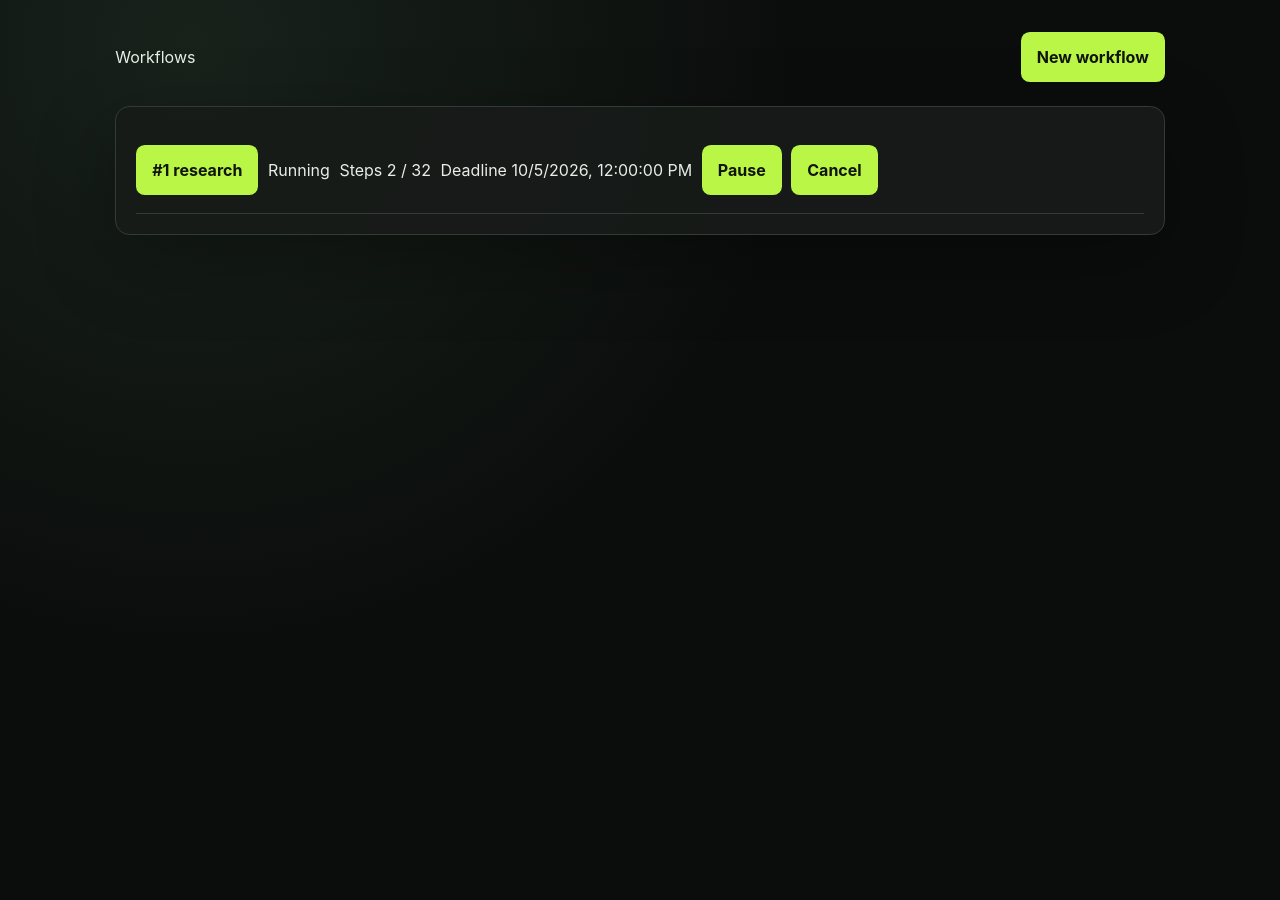
WorkflowsPage › shows private state only after explicit checkpoint inspection
Click the button "#1 research". click: (197, 170)
box: [136,145,258,195]
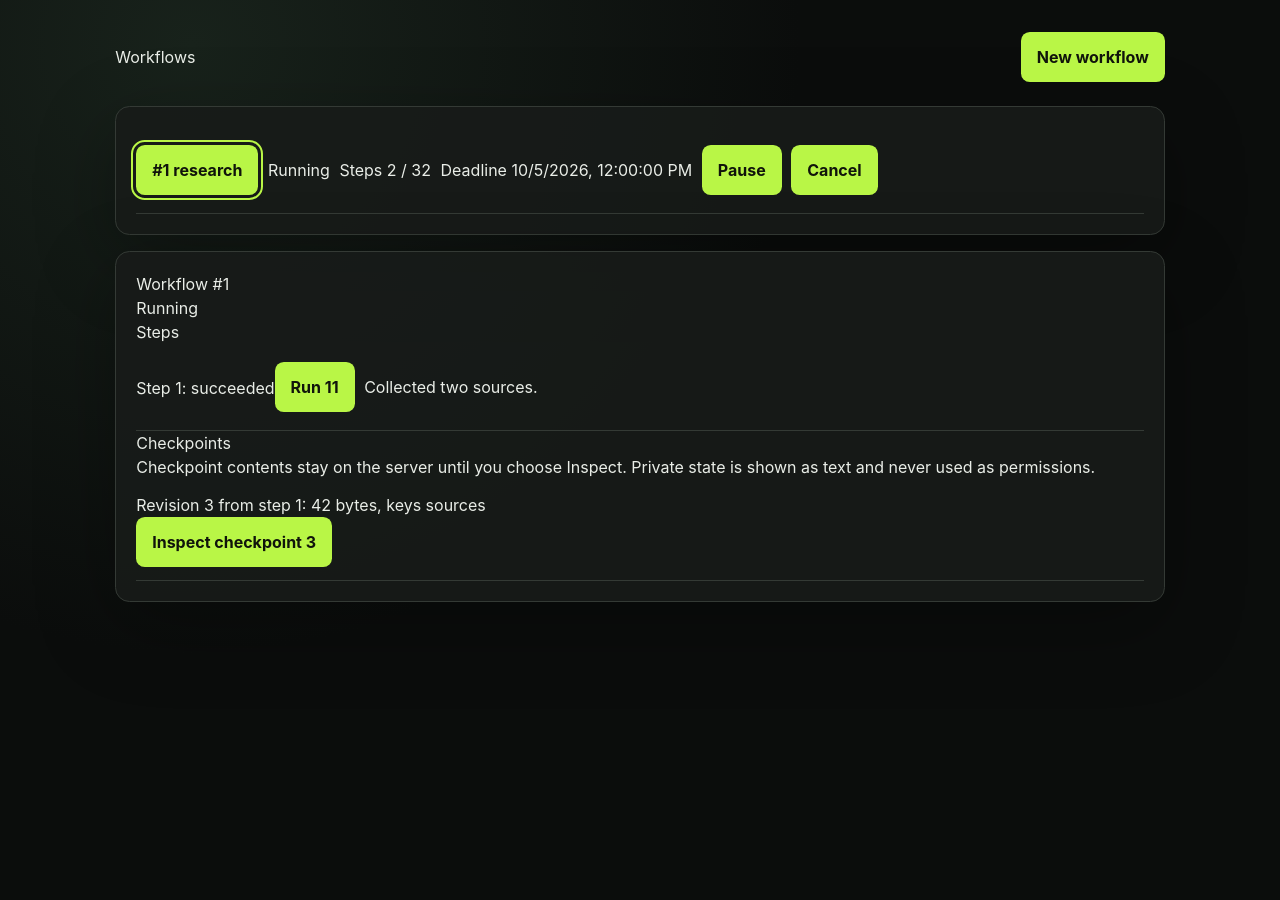
expect the text "Private evidence" is not shown: met
Click the button "Inspect checkpoint 3". click: (234, 542)
box: [136,517,332,566]
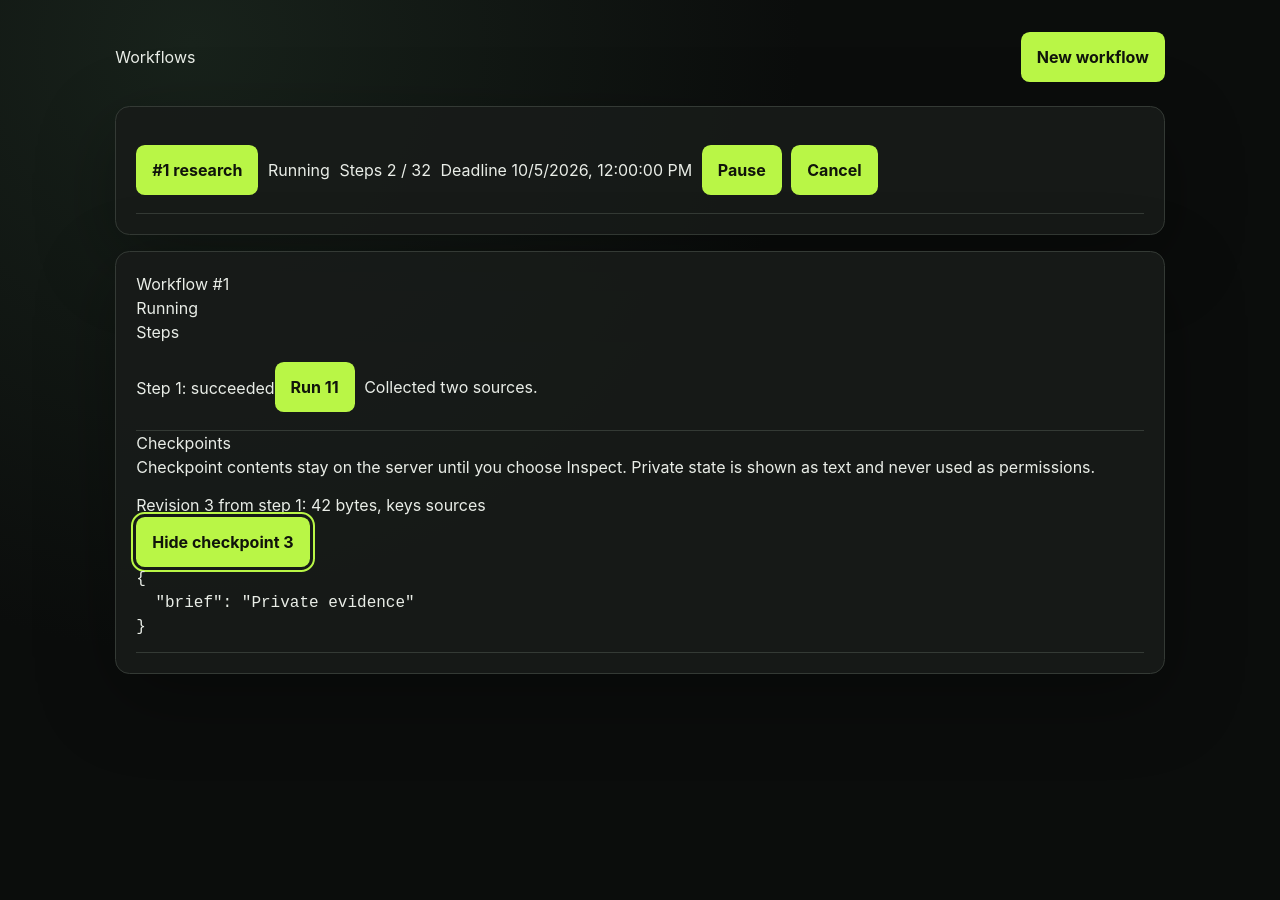
expect the text named "Private checkpoint 3" shows "Private evidence": met, box [136,570,415,636]
